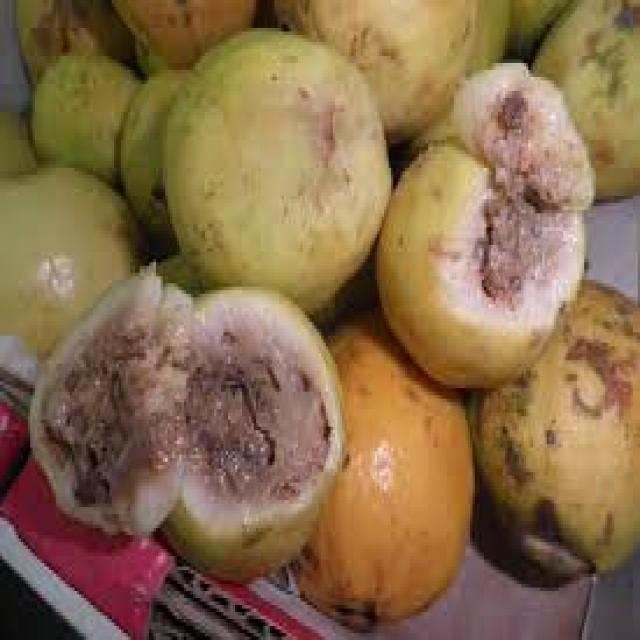organic waste: (156, 25, 391, 312), (288, 298, 472, 630), (156, 280, 342, 580), (372, 133, 584, 388), (466, 269, 638, 581), (23, 255, 186, 542), (268, 0, 505, 140), (0, 164, 142, 378), (447, 56, 593, 210), (528, 0, 637, 199), (28, 49, 140, 175), (116, 66, 191, 245), (106, 0, 258, 73), (14, 0, 137, 84), (495, 0, 570, 59), (0, 101, 33, 175)
